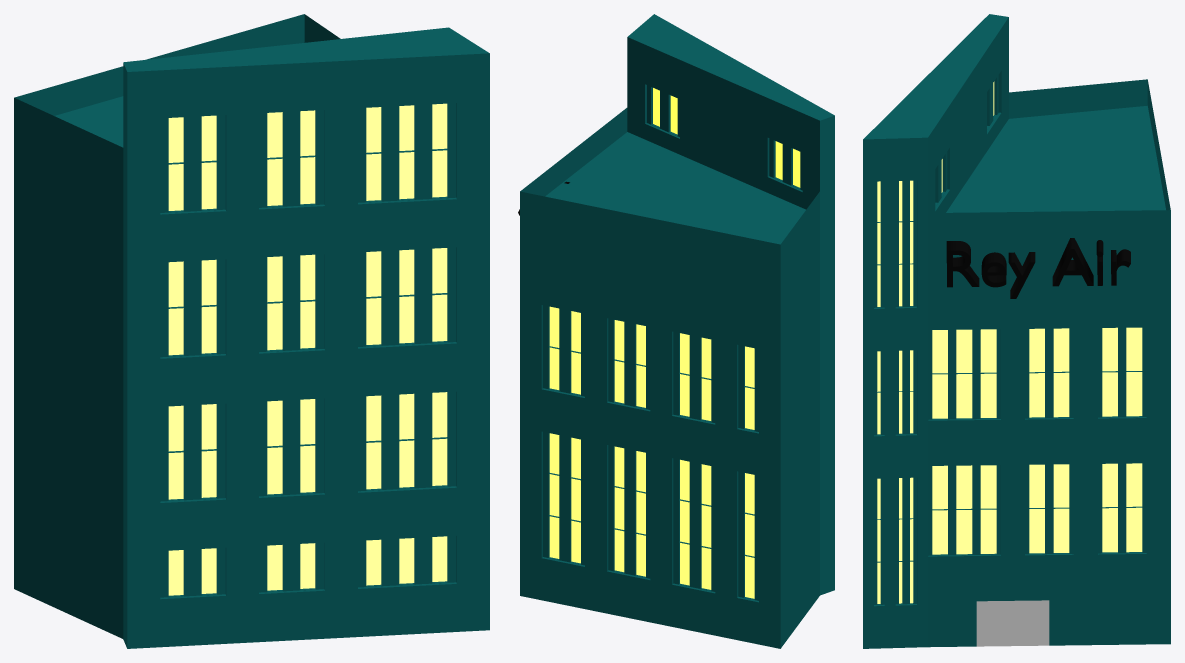
Rendered from 122_waterfront.fbx.
3 renders of one model, left to right at view 1: azimuth 30°, elevation 25°; view 2: azimuth 150°, elevation 25°; view 3: azimuth 270°, elevation 25°, orthographic. The views are drawn at different scales.
Visible parts, largest first — view 1: 122_waterfront; view 2: 122_waterfront; view 3: 122_waterfront.
Part boxes in pixels (box(x1,y1,x2,y2)): 122_waterfront: box(14, 14, 489, 648); 122_waterfront: box(518, 14, 834, 648); 122_waterfront: box(863, 14, 1170, 648).
Size of the model in its own units: 822 by 1375 by 753.
